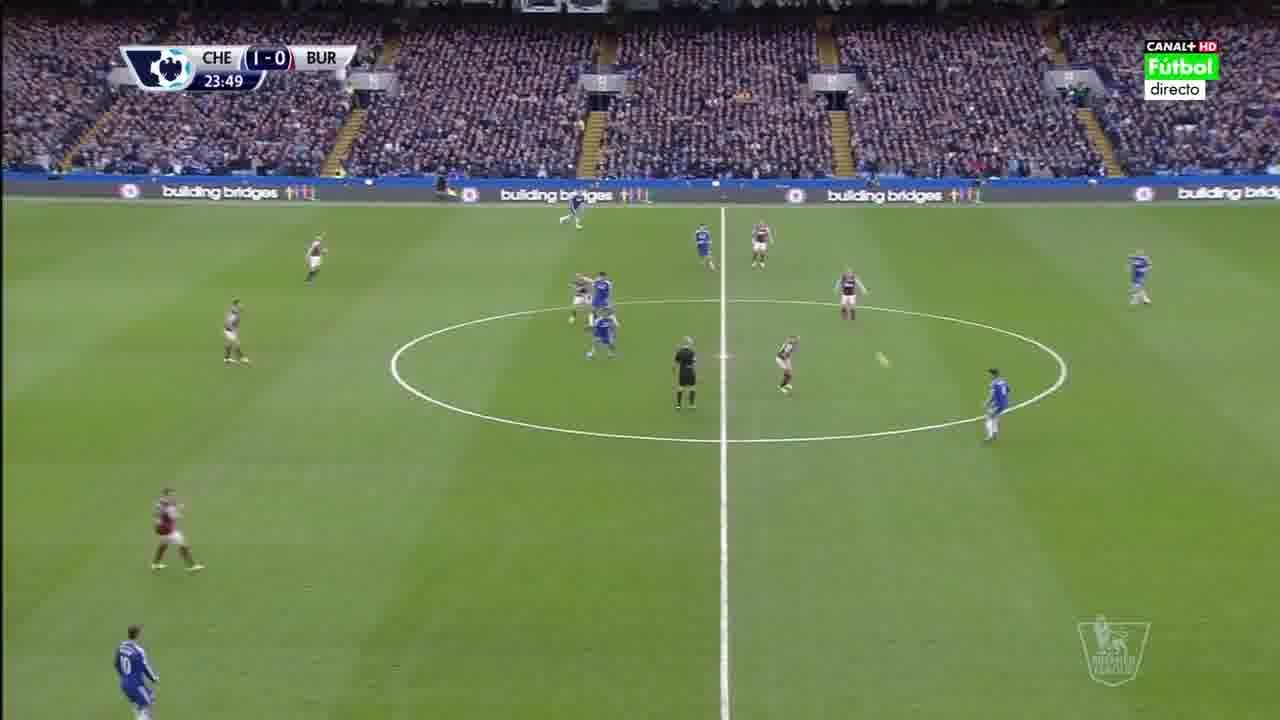football: (876, 354, 891, 368)
